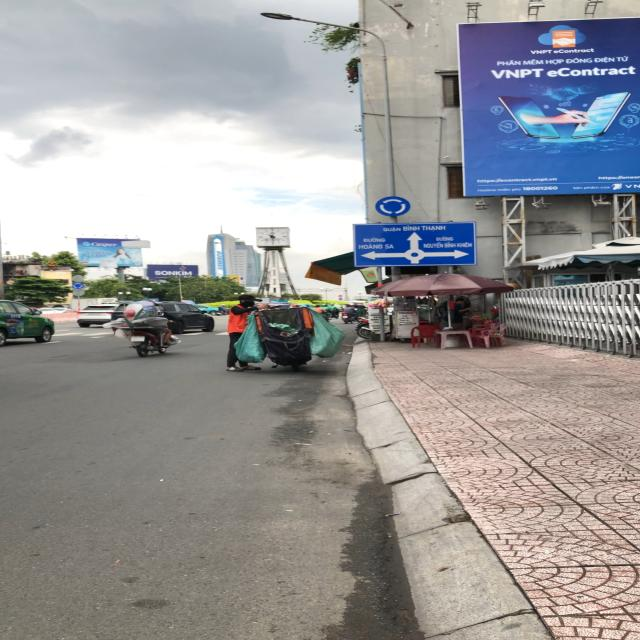Bien bao noi giao nhau chay theo vong xuyen: (372, 197, 412, 218), (70, 281, 86, 290)
